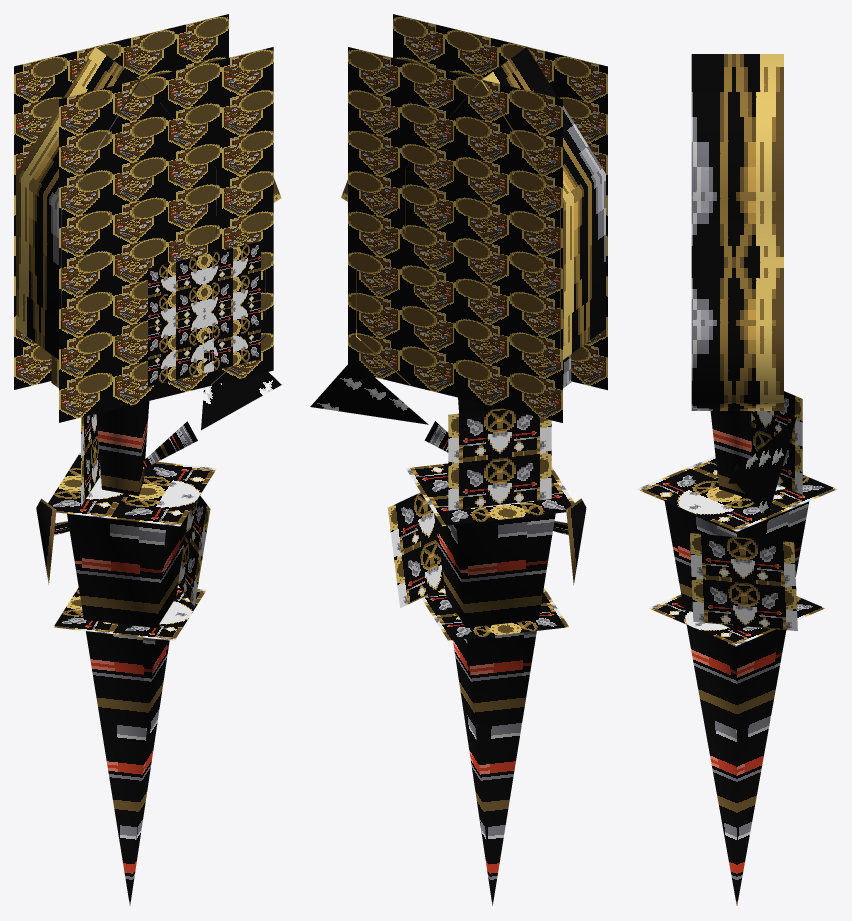
The picture shows the model from 3 angles, left to right: view 1: azimuth 30°, elevation 25°; view 2: azimuth 150°, elevation 25°; view 3: azimuth 270°, elevation 25°; orthographic projection.
Parts seen in each view (by area): view 1: 3434kg_sh2_16; view 2: 3434kg_sh2_16; view 3: 3434kg_sh2_16.
Boxes of the visible parts, <box> form: 3434kg_sh2_16: <box>14,14,281,905</box>; 3434kg_sh2_16: <box>310,14,607,905</box>; 3434kg_sh2_16: <box>637,54,836,905</box>.
Size of the model in its own units: 0.8342 by 2.59 by 0.556.
Materials: 3 (3 with a texture image).
